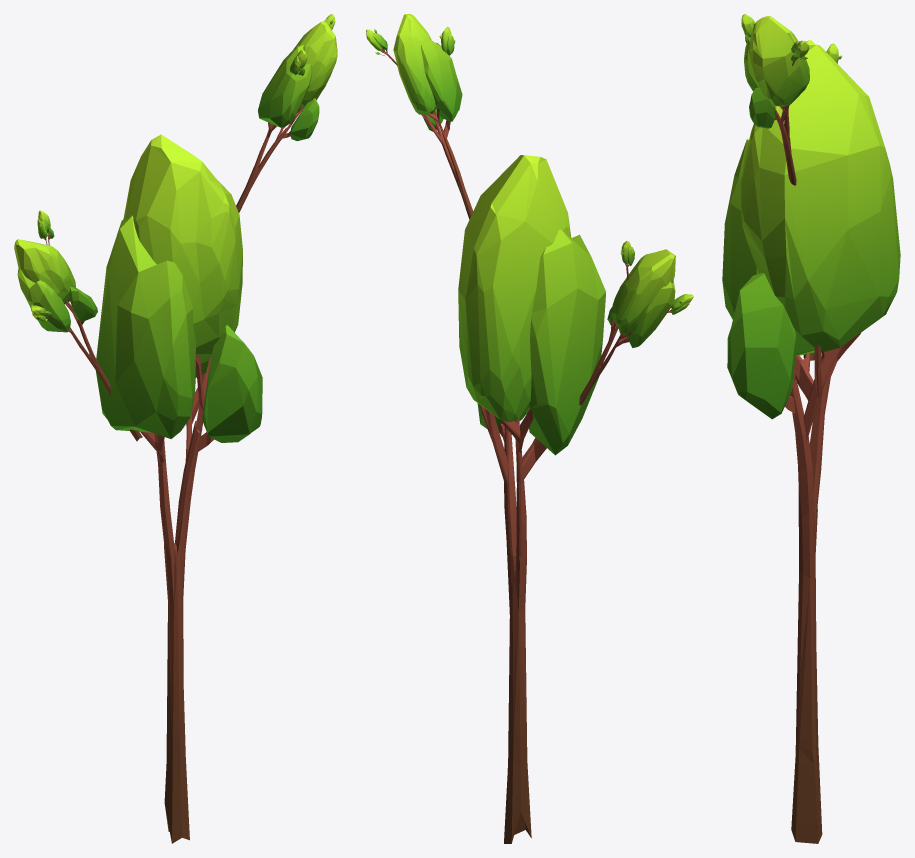
The model's file is samor_4077_133_FractalSpire.fbx.
3 renders of one model, left to right at view 1: azimuth 30°, elevation 25°; view 2: azimuth 150°, elevation 25°; view 3: azimuth 270°, elevation 25°, orthographic. The views are drawn at different scales.
Parts seen in each view (by area): view 1: samor_4077_133_FractalSpire; view 2: samor_4077_133_FractalSpire; view 3: samor_4077_133_FractalSpire.
Boxes of the visible parts, x1,y1,x2,y2 form: samor_4077_133_FractalSpire: [14, 14, 337, 843]; samor_4077_133_FractalSpire: [366, 14, 693, 843]; samor_4077_133_FractalSpire: [722, 14, 900, 843].
Bounding box in the file's own units: 12.96 × 31.09 × 5.63.
Materials: 1 (1 with a texture image).
